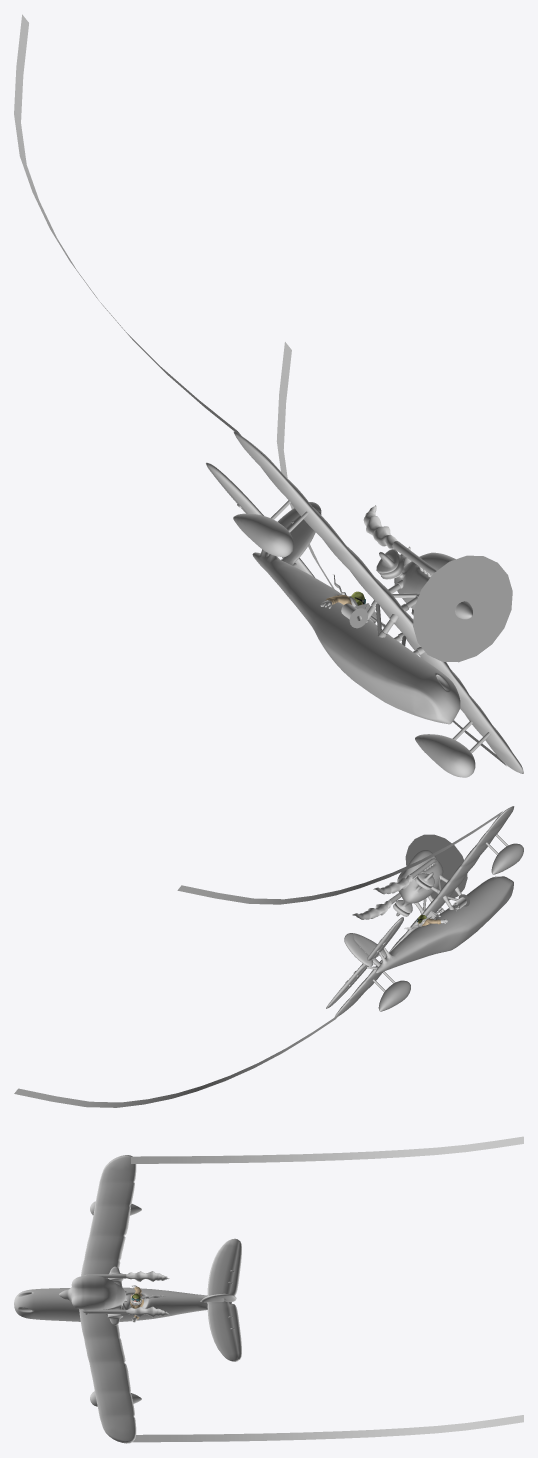
File: porcoAvion.obj
The picture shows the model from 3 angles, top to bottom: view 1: azimuth 30°, elevation 25°; view 2: azimuth 150°, elevation 25°; view 3: azimuth 270°, elevation 25°; orthographic projection. The views are drawn at different scales.
Visible parts, largest first — view 1: Body_l, Rotatory, Wing01_l, Side_l, Engine_l, Shape001, Shape, Wing02_l, Midcilinders_l, Wing03_l; view 2: Body_l, Wing01_l, Shape001, Shape, Engine_l, Rotatory, Side_l, Wing02_l, Wing03_l, Midcilinders_l; view 3: Wing01_l, Body_l, Shape001, Shape, Wing03_l, Engine_l.
Boxes of the visible parts, x1=… form: Body_l: x1=252, y1=549, x2=460, y2=724; Rotatory: x1=413, y1=555, x2=512, y2=662; Wing01_l: x1=233, y1=431, x2=523, y2=773; Side_l: x1=233, y1=513, x2=475, y2=777; Engine_l: x1=376, y1=549, x2=472, y2=619; Shape001: x1=14, y1=14, x2=241, y2=435; Shape: x1=276, y1=342, x2=506, y2=765; Wing02_l: x1=277, y1=502, x2=321, y2=565; Midcilinders_l: x1=366, y1=579, x2=424, y2=655; Wing03_l: x1=206, y1=462, x2=314, y2=577; Body_l: x1=367, y1=876, x2=513, y2=973; Wing01_l: x1=334, y1=806, x2=514, y2=1017; Shape001: x1=177, y1=811, x2=502, y2=904; Shape: x1=14, y1=1015, x2=338, y2=1107; Engine_l: x1=393, y1=850, x2=443, y2=916; Rotatory: x1=405, y1=834, x2=467, y2=900; Side_l: x1=378, y1=843, x2=523, y2=1011; Wing02_l: x1=344, y1=933, x2=386, y2=966; Wing03_l: x1=326, y1=917, x2=403, y2=1008; Midcilinders_l: x1=414, y1=874, x2=461, y2=914; Wing01_l: x1=79, y1=1155, x2=136, y2=1443; Body_l: x1=14, y1=1287, x2=231, y2=1321; Shape001: x1=131, y1=1136, x2=523, y2=1163; Shape: x1=133, y1=1415, x2=523, y2=1442; Wing03_l: x1=207, y1=1238, x2=241, y2=1361; Engine_l: x1=59, y1=1266, x2=126, y2=1325.
Bounding box in the file's own units: 294 × 340 × 571.
